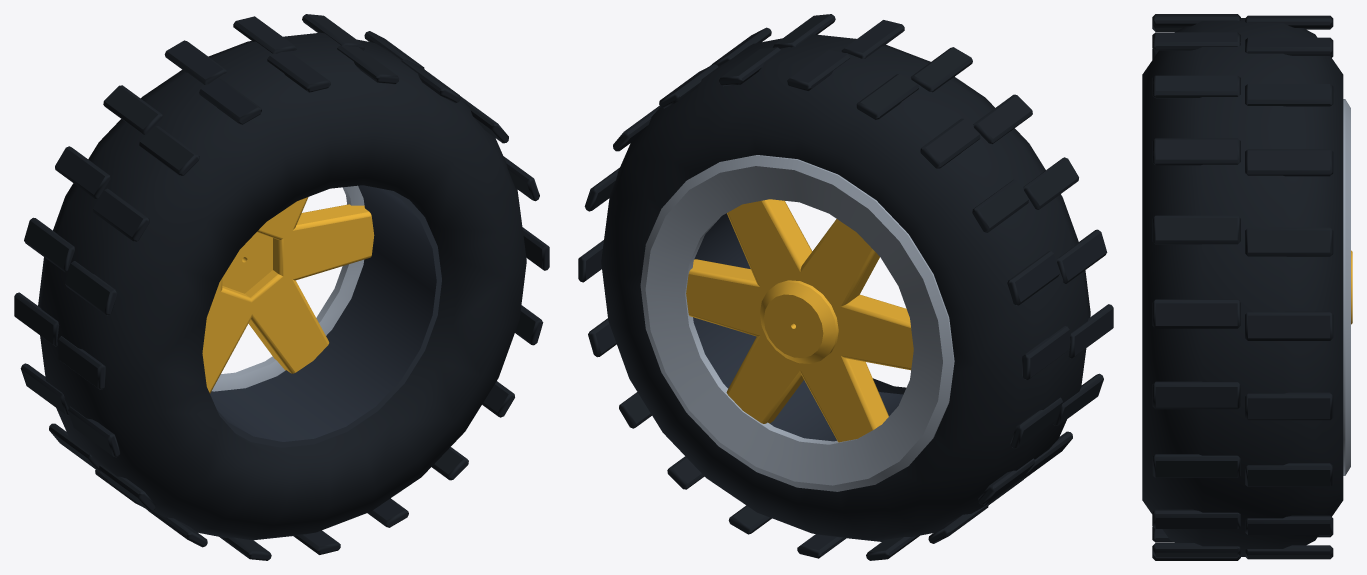
The picture shows the model from 3 angles, left to right: view 1: azimuth 30°, elevation 25°; view 2: azimuth 150°, elevation 25°; view 3: azimuth 270°, elevation 25°; orthographic projection. The views are drawn at different scales.
Visible parts, largest first — view 1: W05_Tire, W05_Rim_barrel, W05_Six_arm_0, W05_Six_arm_5, W05_Six_arm_4, W05_Rim_outer_lip, W05_Axle_cap, W05_Tread_17_-1, W05_Tread_18_-1, W05_Tread_17_1, W05_Tread_18_1, W05_Tread_16_-1 (+22 smaller); view 2: W05_Tire, W05_Rim_outer_lip, W05_Rim_barrel, W05_Axle_cap, W05_Six_arm_1, W05_Six_arm_4, W05_Six_arm_3, W05_Six_arm_0, W05_Six_arm_2, W05_Six_arm_5, W05_Tread_17_1, W05_Tread_18_1 (+24 smaller); view 3: W05_Tire, W05_Rim_outer_lip, W05_Tread_3_-1, W05_Tread_4_-1, W05_Tread_3_1, W05_Tread_4_1, W05_Tread_5_-1, W05_Tread_5_1, W05_Tread_2_1, W05_Tread_2_-1, W05_Tread_6_-1, W05_Tread_6_1 (+11 smaller).
Boxes of the visible parts, left/top/right/bottom form: W05_Tire: left=38, top=32, right=526, bottom=540; W05_Rim_barrel: left=210, top=185, right=441, bottom=447; W05_Six_arm_0: left=273, top=204, right=374, bottom=282; W05_Six_arm_5: left=245, top=270, right=329, bottom=373; W05_Six_arm_4: left=202, top=286, right=256, bottom=393; W05_Rim_outer_lip: left=212, top=185, right=364, bottom=391; W05_Axle_cap: left=222, top=232, right=272, bottom=293; W05_Tread_17_-1: left=93, top=188, right=149, bottom=241; W05_Tread_18_-1: left=139, top=126, right=199, bottom=176; W05_Tread_17_1: left=55, top=146, right=110, bottom=198; W05_Tread_18_1: left=103, top=85, right=162, bottom=134; W05_Tread_16_-1: left=65, top=261, right=117, bottom=315; W05_Tire: left=601, top=34, right=1090, bottom=541; W05_Rim_outer_lip: left=640, top=155, right=954, bottom=491; W05_Rim_barrel: left=693, top=213, right=902, bottom=441; W05_Axle_cap: left=760, top=280, right=838, bottom=363; W05_Six_arm_1: left=727, top=199, right=812, bottom=293; W05_Six_arm_4: left=796, top=352, right=888, bottom=442; W05_Six_arm_3: left=831, top=294, right=913, bottom=370; W05_Six_arm_0: left=686, top=259, right=768, bottom=337; W05_Six_arm_2: left=796, top=219, right=879, bottom=306; W05_Six_arm_5: left=726, top=336, right=803, bottom=423; W05_Tread_17_1: left=972, top=179, right=1028, bottom=232; W05_Tread_18_1: left=920, top=118, right=980, bottom=168; W05_Tire: left=1142, top=18, right=1343, bottom=556; W05_Rim_outer_lip: left=1343, top=99, right=1350, bottom=475; W05_Tread_3_-1: left=1152, top=215, right=1240, bottom=244; W05_Tread_4_-1: left=1152, top=299, right=1240, bottom=328; W05_Tread_3_1: left=1245, top=227, right=1333, bottom=256; W05_Tread_4_1: left=1245, top=311, right=1333, bottom=340; W05_Tread_5_-1: left=1152, top=381, right=1240, bottom=409; W05_Tread_5_1: left=1245, top=392, right=1333, bottom=420; W05_Tread_2_1: left=1245, top=149, right=1333, bottom=176; W05_Tread_2_-1: left=1152, top=138, right=1240, bottom=165; W05_Tread_6_-1: left=1152, top=454, right=1240, bottom=477; W05_Tread_6_1: left=1245, top=463, right=1333, bottom=486.
Bounding box in the file's own units: 3.54 × 3.54 × 1.36.
